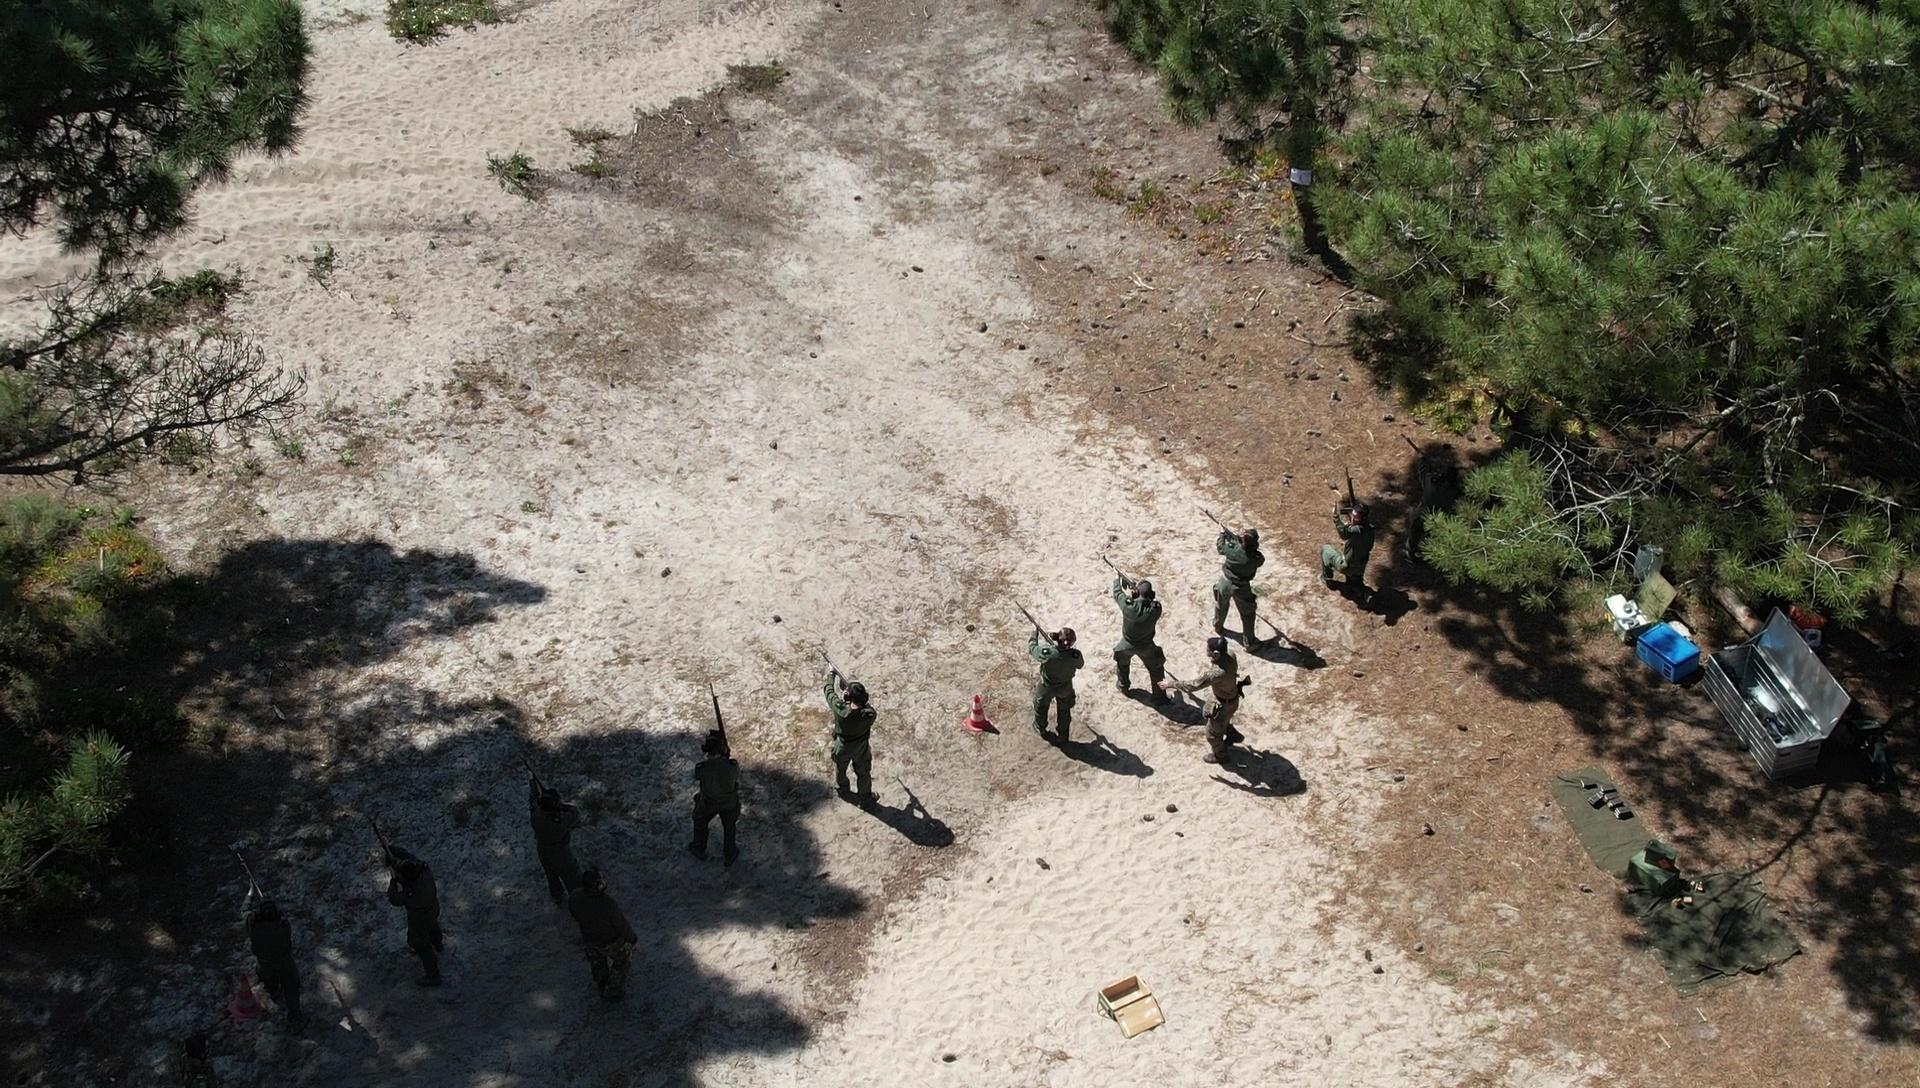Soldier: (512, 758, 637, 957), (355, 815, 476, 1014), (663, 706, 764, 888), (1088, 555, 1193, 727), (219, 874, 326, 1038), (1013, 608, 1109, 778), (808, 659, 895, 826), (558, 861, 647, 1019), (1191, 517, 1282, 667), (1167, 625, 1246, 779), (1323, 484, 1400, 630), (1389, 425, 1469, 560)
